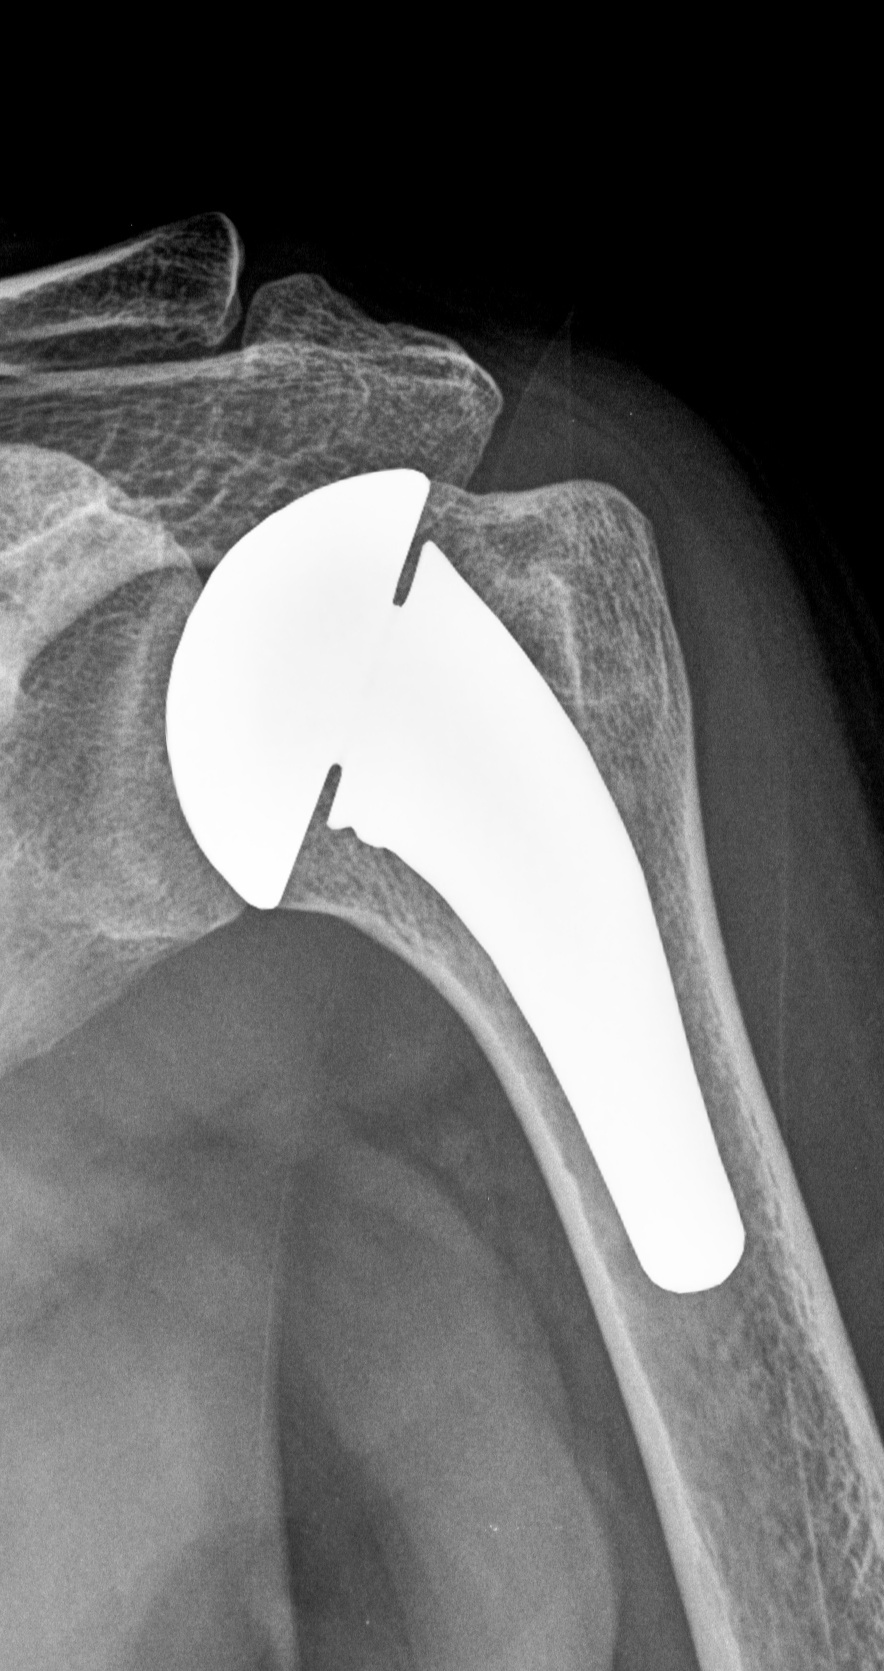Shoulder - AequalisAscendFlex - Tornier: (146, 452, 448, 933)
